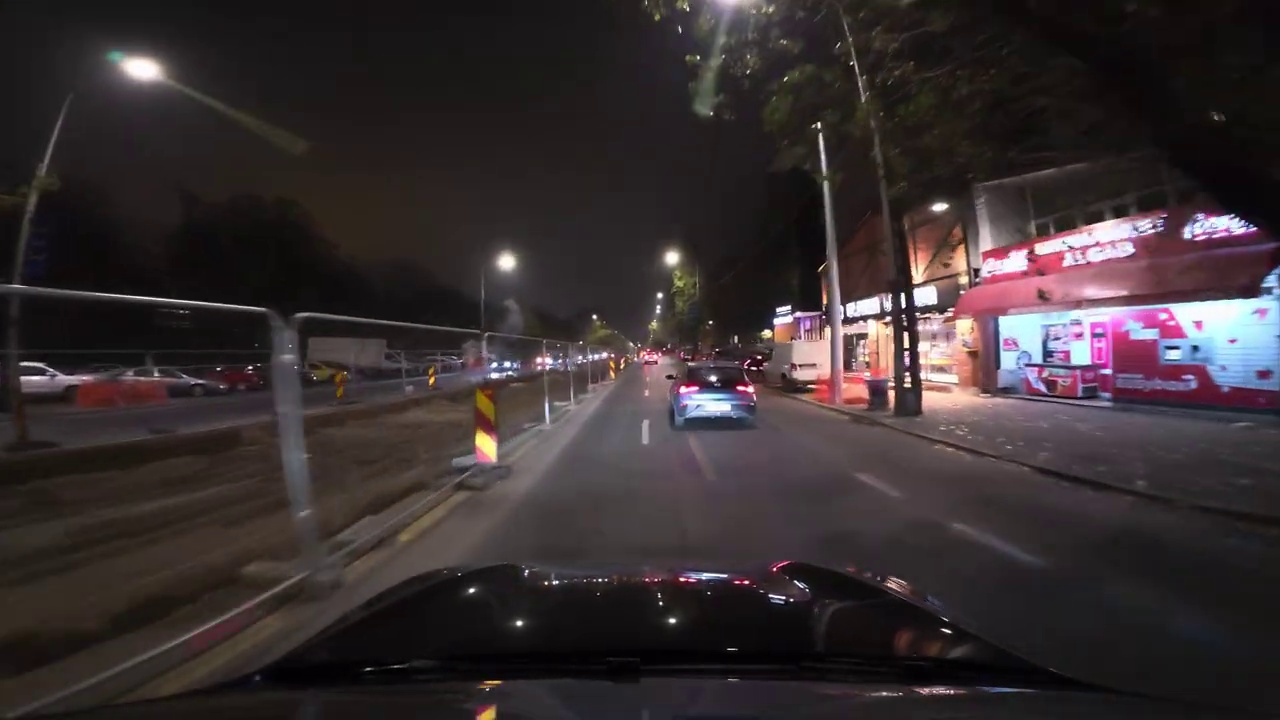acesa: (116, 54, 165, 87), (493, 249, 521, 276), (659, 245, 685, 271)
